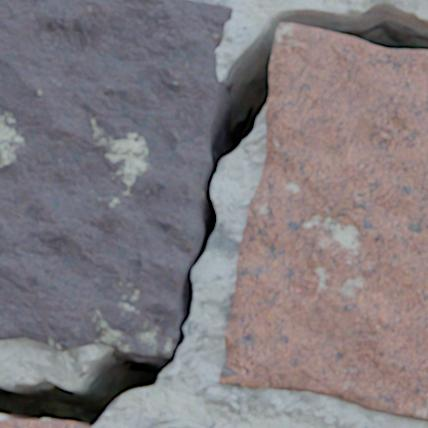brick: (0, 0, 232, 356), (219, 24, 427, 420), (0, 417, 93, 427)
crack: (0, 1, 427, 426)
